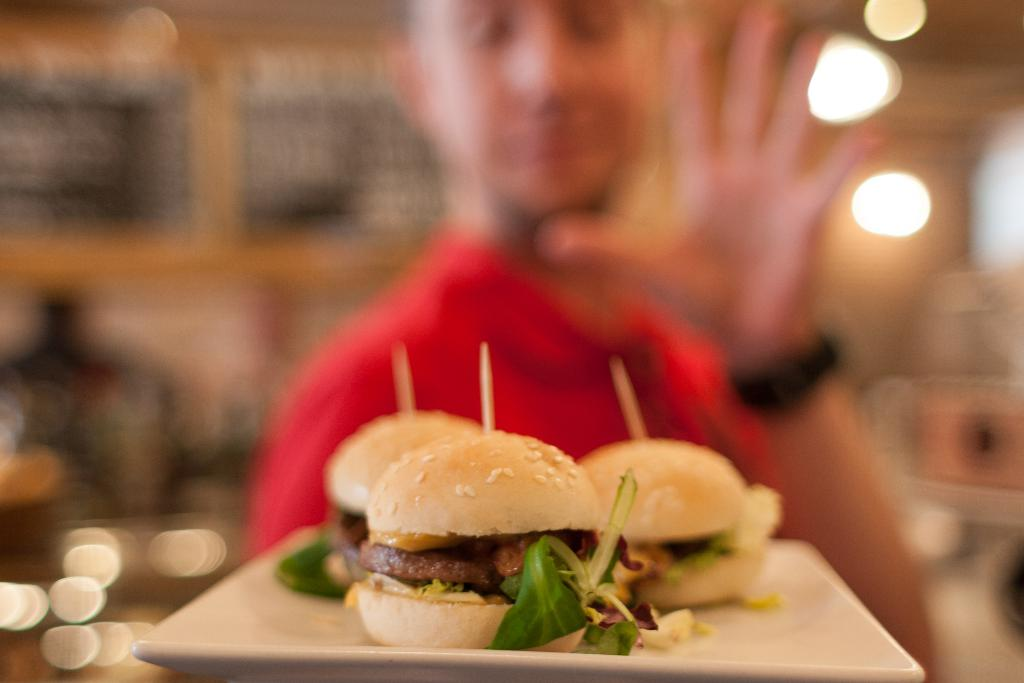Hamburger: (356, 430, 645, 650), (577, 439, 781, 603), (314, 409, 465, 583)
